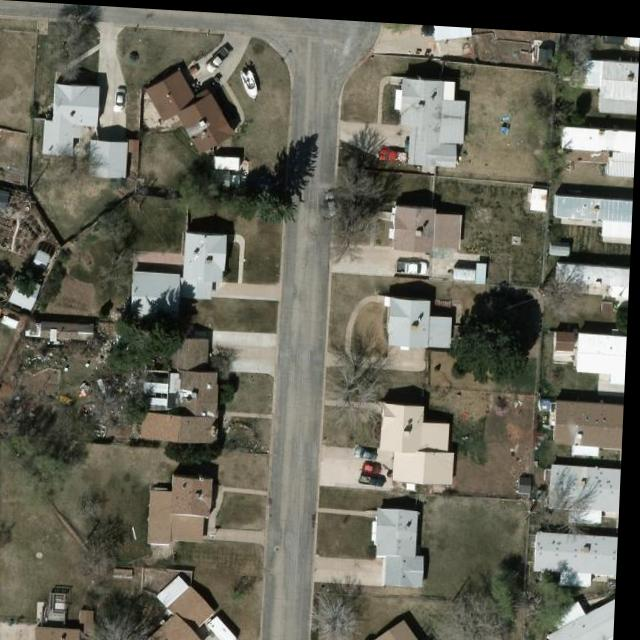vehicle: (204, 43, 234, 72), (324, 186, 343, 216), (358, 467, 391, 484), (379, 143, 410, 159), (395, 256, 430, 269), (115, 84, 130, 112), (357, 442, 382, 456), (364, 456, 387, 471), (419, 20, 443, 33)
